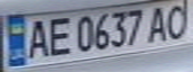0: (72, 12, 96, 53)
3: (109, 8, 130, 48)
6: (90, 10, 115, 51)
7: (124, 6, 148, 46)
A: (24, 16, 51, 60), (145, 3, 172, 44)
E: (42, 14, 72, 57)
O: (163, 1, 190, 40)
